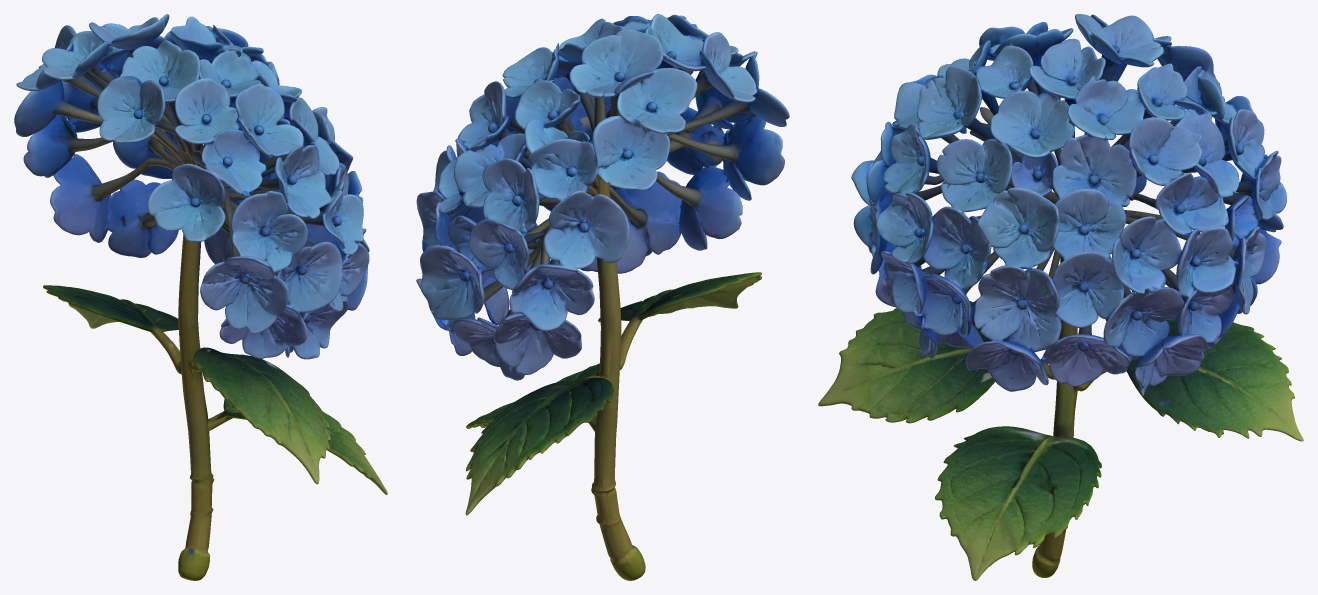
File: blue hydrangea 3.glb
3 renders of one model, left to right at view 1: azimuth 30°, elevation 25°; view 2: azimuth 150°, elevation 25°; view 3: azimuth 270°, elevation 25°, orthographic. The views are drawn at different scales.
Parts seen in each view (by area): view 1: tripo_node_04515984-1a8b-430c-b560-8cd397eb1e2a; view 2: tripo_node_04515984-1a8b-430c-b560-8cd397eb1e2a; view 3: tripo_node_04515984-1a8b-430c-b560-8cd397eb1e2a.
Part boxes in pixels (x1,y1,x2,y2): tripo_node_04515984-1a8b-430c-b560-8cd397eb1e2a: [14, 14, 387, 580]; tripo_node_04515984-1a8b-430c-b560-8cd397eb1e2a: [416, 14, 789, 580]; tripo_node_04515984-1a8b-430c-b560-8cd397eb1e2a: [818, 14, 1303, 580].
Bounding box in the file's own units: 0.4944 × 0.9802 × 0.7908.
Materials: 1 (1 with a texture image).
